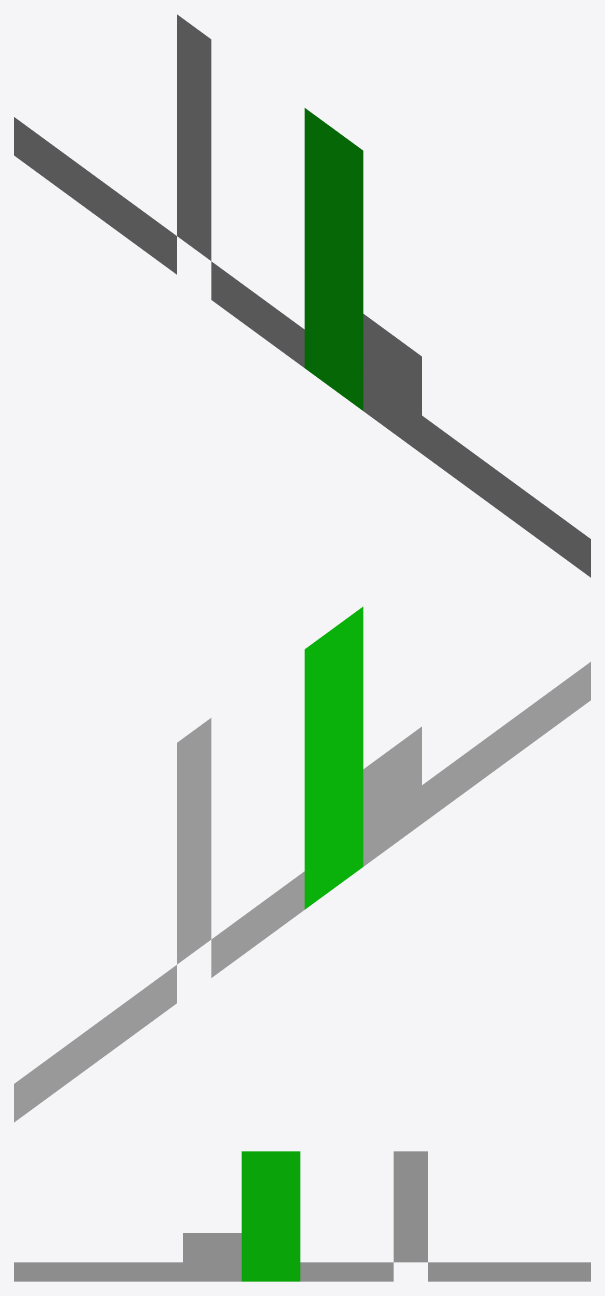
File: Level_02_D2_body.FBX
The picture shows the model from 3 angles, top to bottom: view 1: azimuth 30°, elevation 25°; view 2: azimuth 150°, elevation 25°; view 3: azimuth 270°, elevation 25°; orthographic projection. The views are drawn at different scales.
Parts seen in each view (by area): view 1: lvl02_D2_white, lvl02_D2_green; view 2: lvl02_D2_white, lvl02_D2_green; view 3: lvl02_D2_white, lvl02_D2_green.
Boxes of the visible parts, left/top/right/bottom form: lvl02_D2_white: left=14, top=14, right=590, bottom=577; lvl02_D2_green: left=304, top=108, right=363, bottom=410; lvl02_D2_white: left=14, top=662, right=590, bottom=1122; lvl02_D2_green: left=304, top=607, right=363, bottom=909; lvl02_D2_white: left=14, top=1151, right=590, bottom=1281; lvl02_D2_green: left=241, top=1151, right=300, bottom=1281.
Bounding box in the file's own units: 0 × 20.89 × 83.86.
